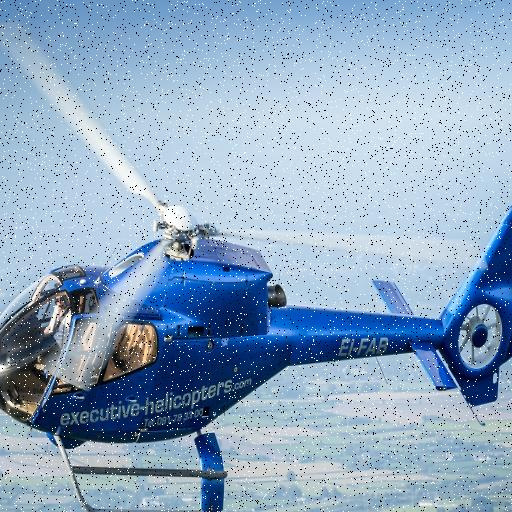helicopter: (1, 22, 512, 512)
